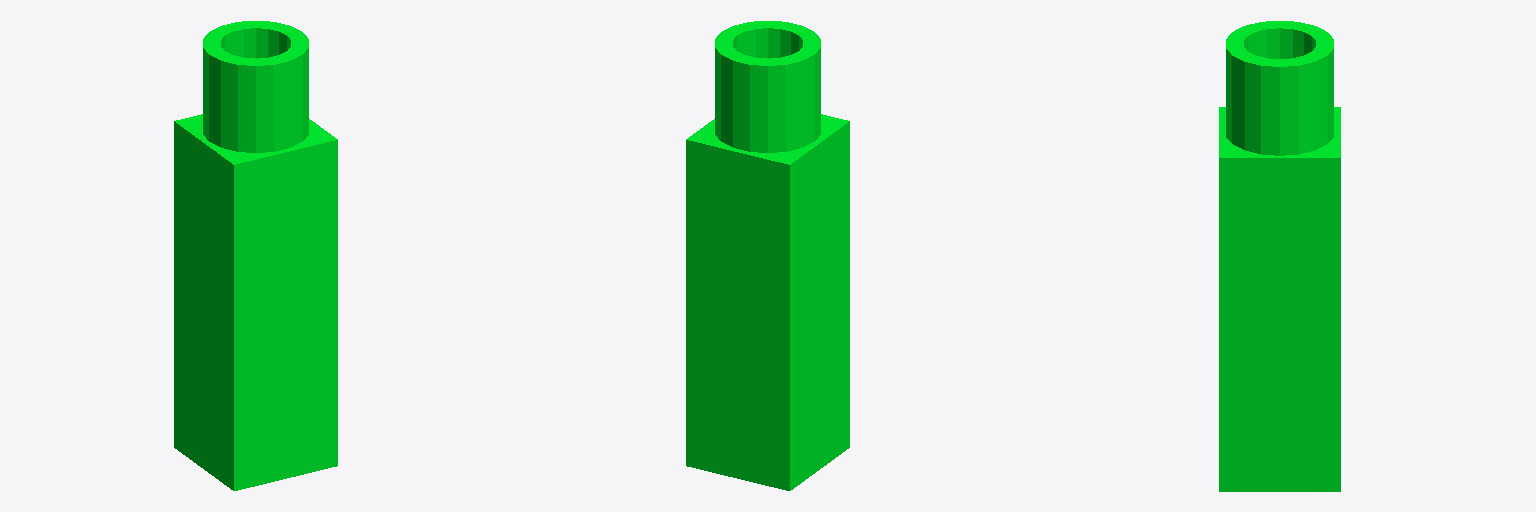
The robot description file, URDF, robot "peg":
<?xml version="1.0"?>
<robot name="peg">
    <link concave="yes" name="base_link">
        <contact>
            <lateral_friction value="1.0"/>
        </contact>
        <inertial>
            <origin xyz="0 0 0.05"/>
            <mass value="1"/>
            <inertia ixx="1" ixy="0" ixz="0" iyy="1" iyz="0" izz="1"/>
        </inertial>
        <visual>
            <origin xyz="0 0 0"/>
            <geometry>
                <mesh filename="hole.STL"/>
            </geometry>
      <material name="mug">
        <color rgba="0 1 0.2 0.5"/>
        <specular rgb="1 1 1"/>
      </material>
        </visual>
        <collision concave="yes">
            <origin xyz="0 0 0"/>
            <geometry>
                <mesh filename="hole.STL"/>
            </geometry>
        </collision>
    </link>
</robot>

--- Facts derived from the render (not from the file) ---
3 views of the same robot in one strip: view 1: azimuth 30°, elevation 25°; view 2: azimuth 150°, elevation 25°; view 3: azimuth 270°, elevation 25° (orthographic).
Model peg with 1 links and 0 joints (none), rooted at base_link, posed every joint at zero.
Links seen in each view (by area): view 1: base_link; view 2: base_link; view 3: base_link.
Boxes of the visible links, x1,y1,x2,y2 form: base_link: [174, 21, 337, 490]; base_link: [686, 21, 849, 490]; base_link: [1219, 21, 1340, 491].
Bounding box of the posed robot: 0.02 × 0.02 × 0.076 m (x, y, z).
1 mesh visuals loaded from 1 distinct referenced files (1 binary STL).